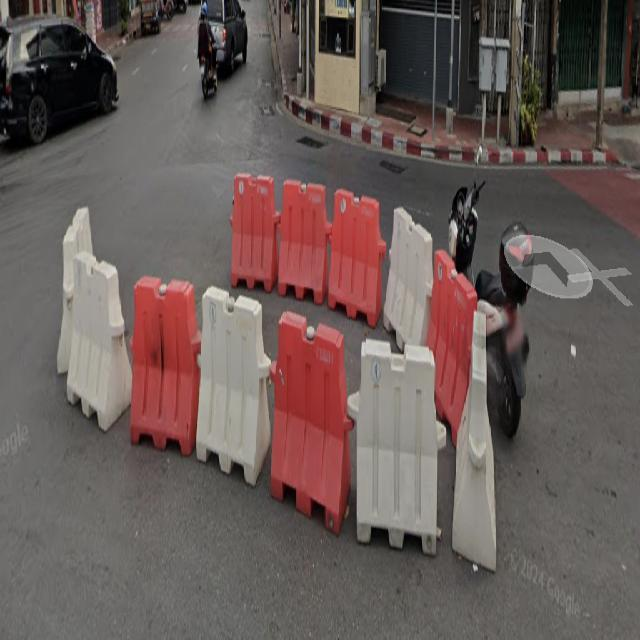fallen_object: (209, 295, 461, 546), (207, 150, 442, 353), (415, 257, 534, 580), (112, 263, 273, 485), (46, 213, 121, 440)
